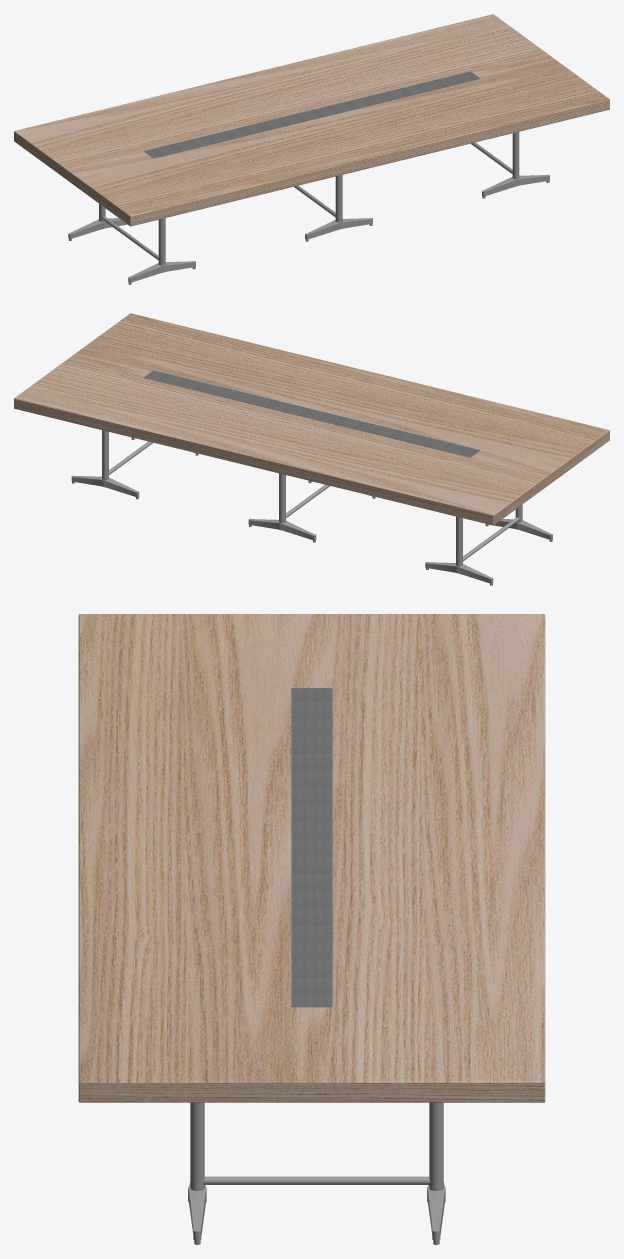
Rendered from 会议桌.gltf.
3 renders of one model, top to bottom at view 1: azimuth 30°, elevation 25°; view 2: azimuth 150°, elevation 25°; view 3: azimuth 270°, elevation 25°, orthographic. The views are drawn at different scales.
Parts seen in each view (by area): view 1: Box001; view 2: Box001; view 3: Box001.
Boxes of the visible parts, left/top/right/bottom form: Box001: left=14, top=14, right=609, bottom=284; Box001: left=14, top=313, right=609, bottom=585; Box001: left=78, top=614, right=545, bottom=1244.
Size of the model in its own units: 3.8 by 0.7325 by 1.6.
Materials: 3 (3 with a texture image).
